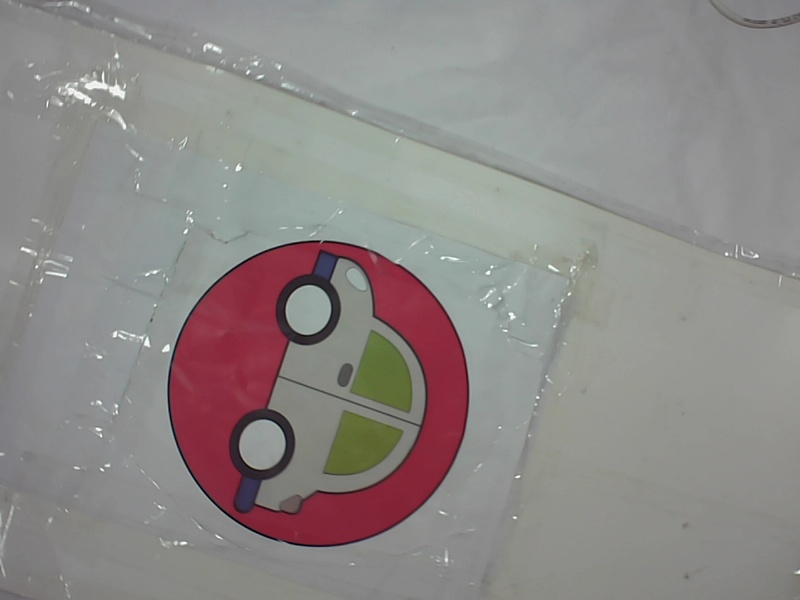areaC: (148, 233, 491, 559)
